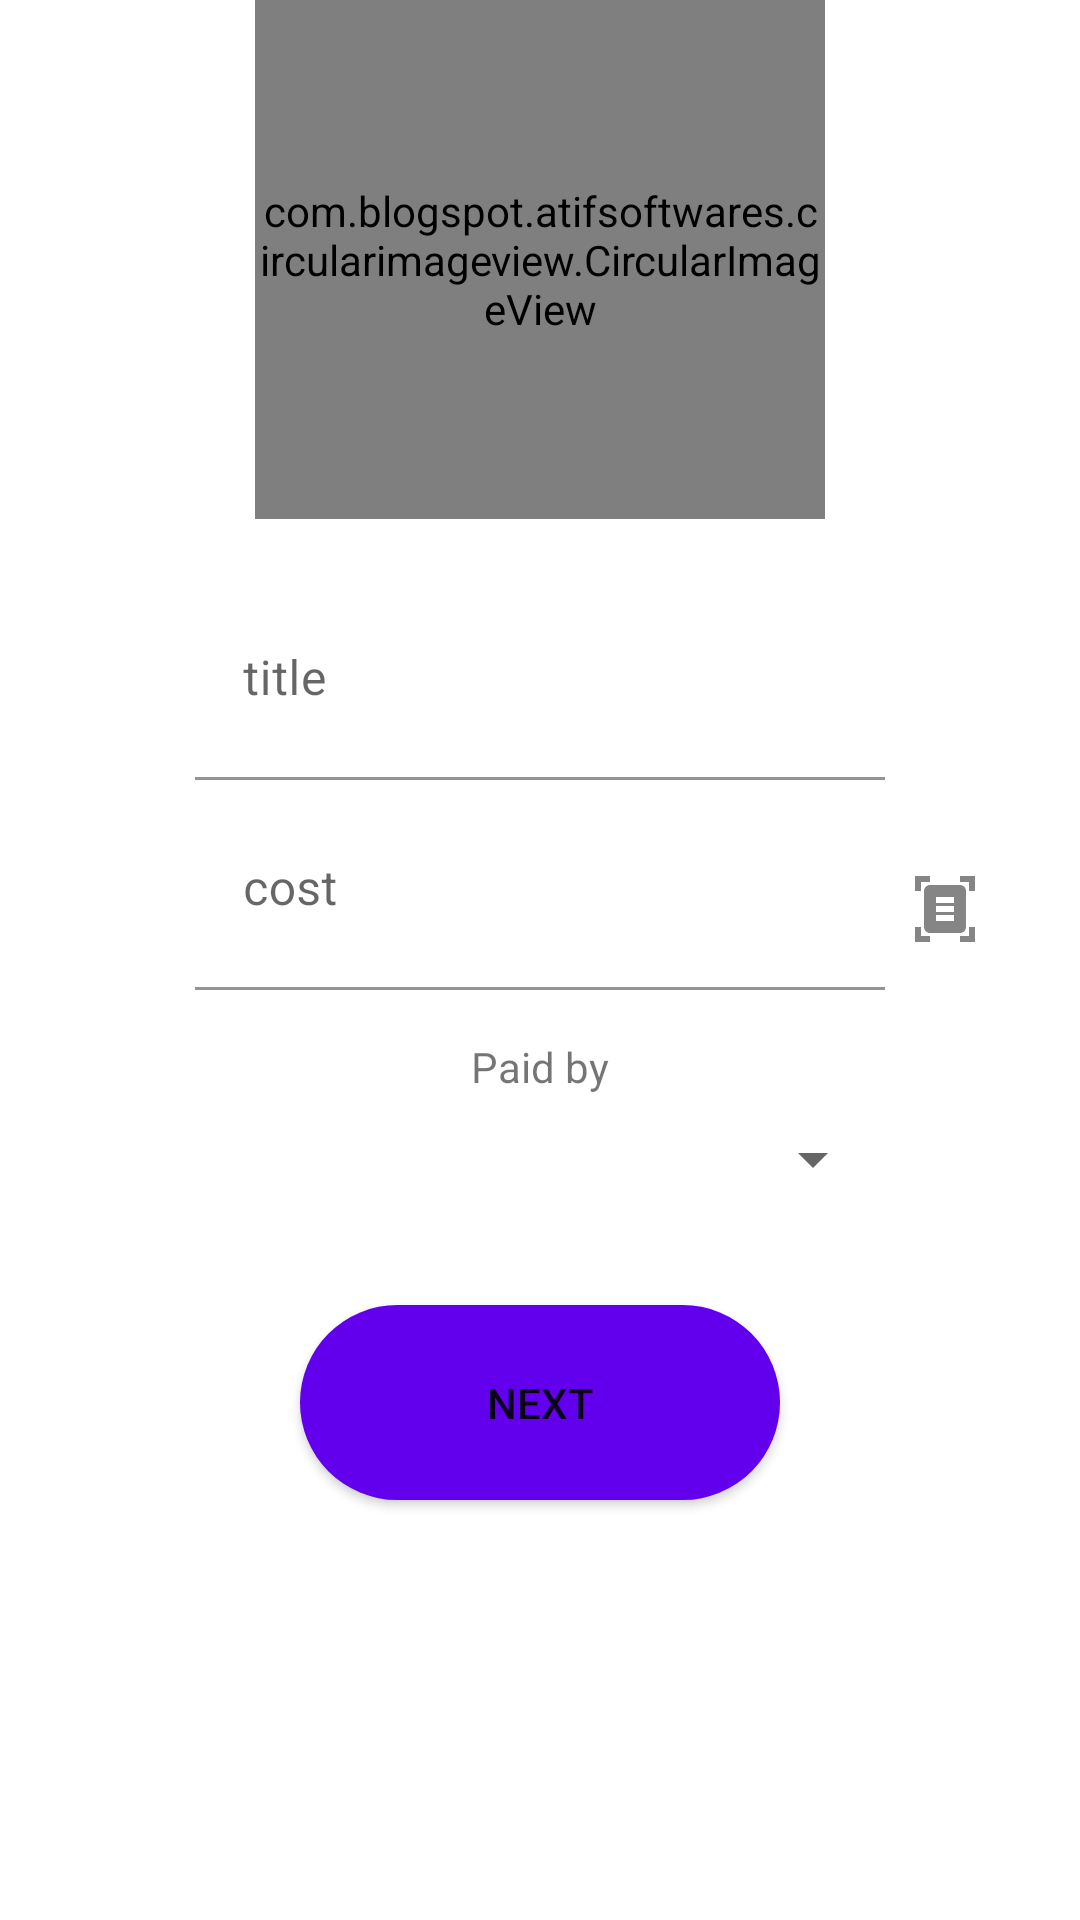

Named icons in this screenshot (1080w x 1920h) and their centers, [x,y]:
scan: [945,909]
